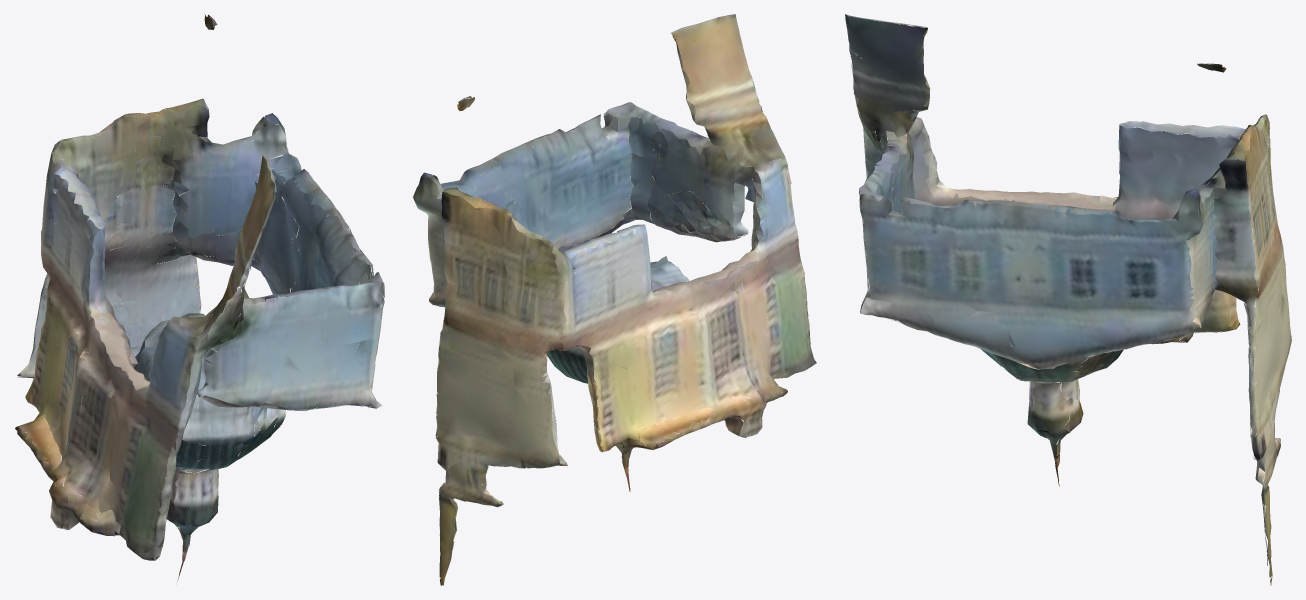
3 renders of one model, left to right at view 1: azimuth 30°, elevation 25°; view 2: azimuth 150°, elevation 25°; view 3: azimuth 270°, elevation 25°, orthographic. The views are drawn at different scales.
Bounding box in the file's own units: 2.97 × 4.82 × 3.73.
1 material, 1 textured.
